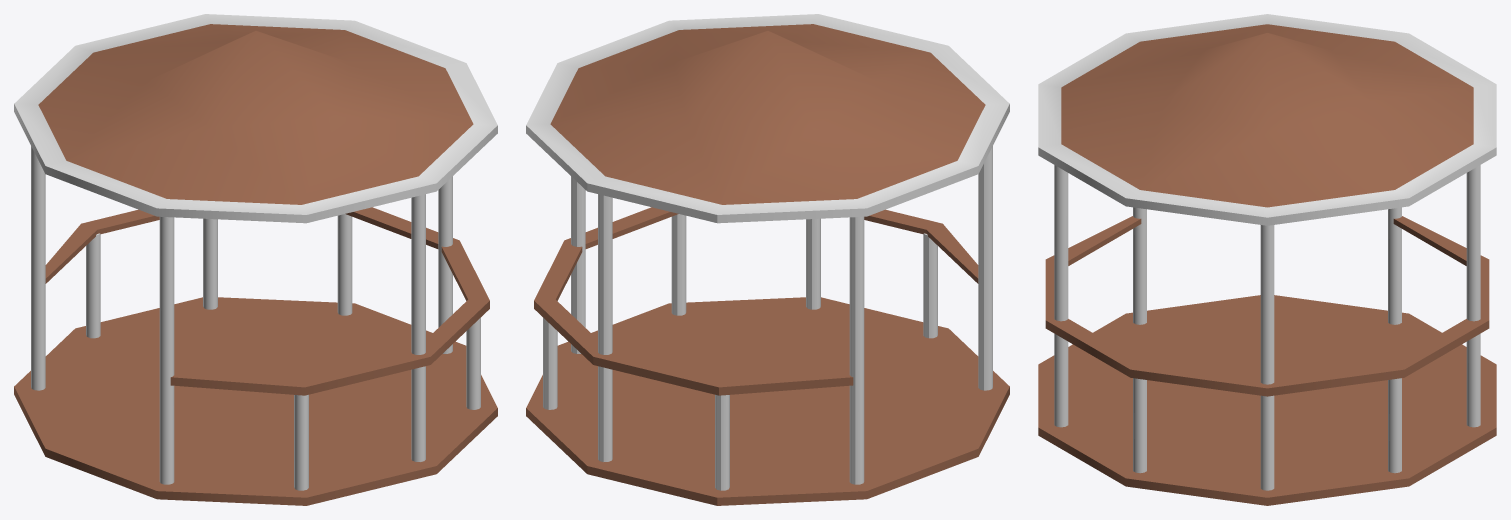
Rendered from Prop_Gazebo_Mod_01.fbx.
3 views of the same model, side by side, from view 1: azimuth 30°, elevation 25°; view 2: azimuth 150°, elevation 25°; view 3: azimuth 270°, elevation 25° (orthographic).
Parts seen in each view (by area): view 1: Roof, Floor; view 2: Roof, Floor; view 3: Roof, Floor.
Boxes of the visible parts, box(x1,y1,x2,y2) form: Roof: box(14, 14, 497, 490); Floor: box(14, 297, 497, 505); Roof: box(526, 14, 1009, 490); Floor: box(526, 297, 1009, 505); Roof: box(1038, 14, 1496, 490); Floor: box(1038, 295, 1496, 505).
Size of the model in its own units: 4.89 by 4.15 by 4.65.
